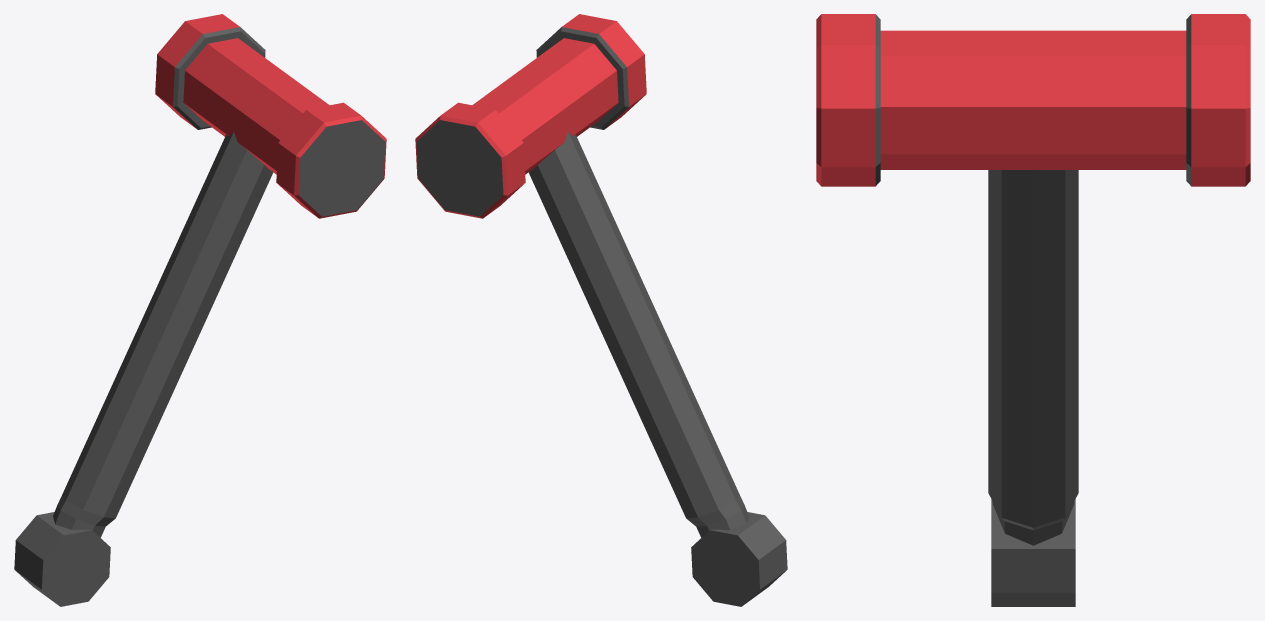
The model's file is ElecLever.fbx.
The picture shows the model from 3 angles, left to right: view 1: azimuth 30°, elevation 25°; view 2: azimuth 150°, elevation 25°; view 3: azimuth 270°, elevation 25°; orthographic projection. The views are drawn at different scales.
Parts seen in each view (by area): view 1: ElecLever; view 2: ElecLever; view 3: ElecLever.
Boxes of the visible parts, x1,y1,x2,y2 form: ElecLever: [14, 14, 386, 606]; ElecLever: [415, 14, 787, 606]; ElecLever: [816, 14, 1250, 606].
Size of the model in its own units: 8.31 by 13.06 by 7.07.
